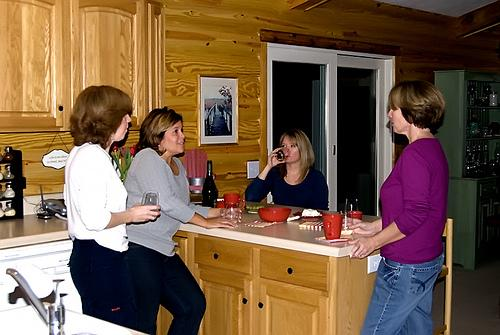cup: (256, 206, 289, 222)
